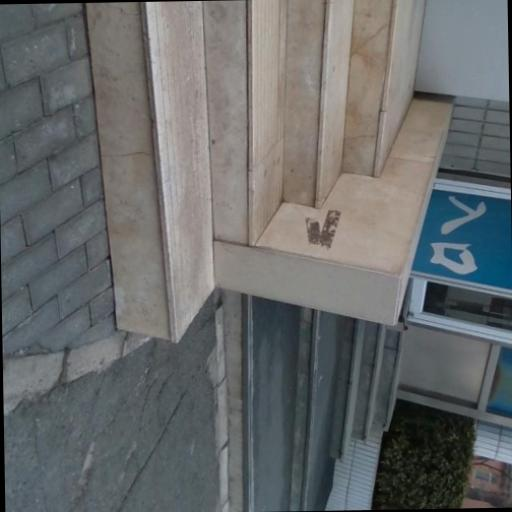stairs: (86, 0, 423, 340), (223, 293, 400, 511), (330, 317, 401, 460)
